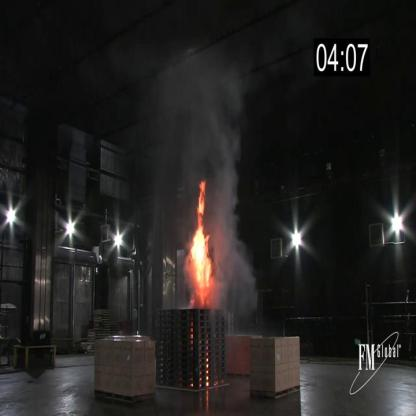fire: (182, 181, 216, 304)
